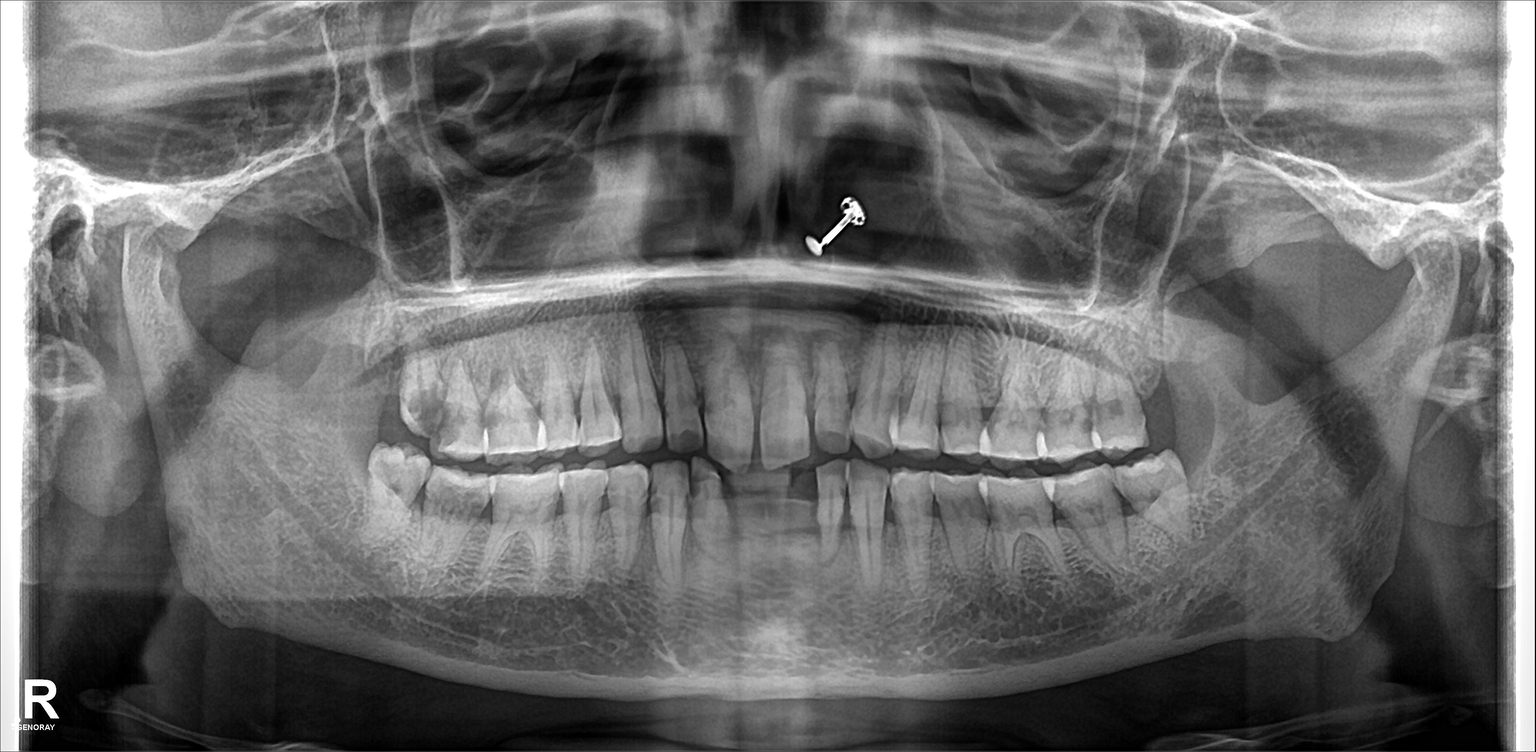Dental Caries: (415, 393, 462, 444)
Impacted Third Molar: (367, 443, 431, 545)
Missing Tooth: (343, 341, 411, 434), (739, 478, 785, 579), (782, 471, 816, 572), (1140, 357, 1180, 434)
